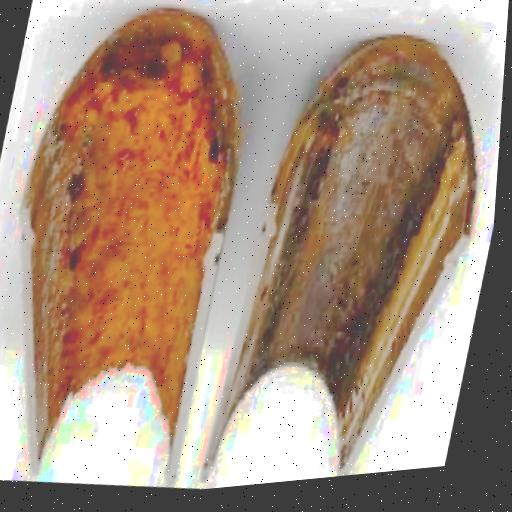corrosion: (207, 22, 498, 478), (26, 4, 249, 467)
